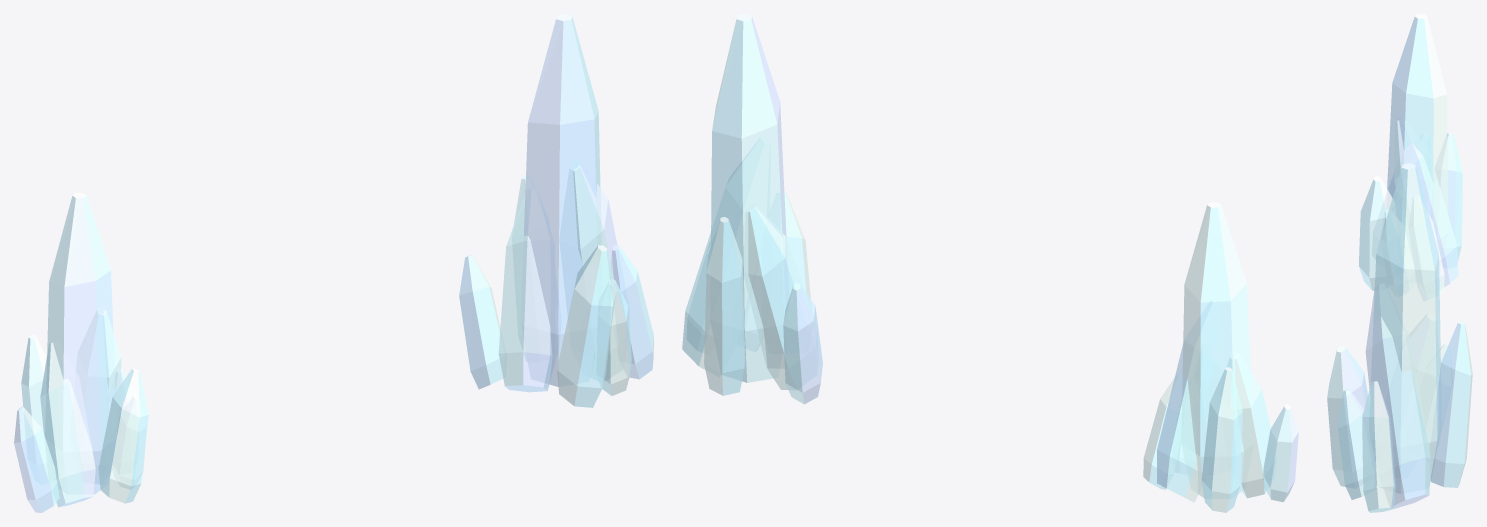
The model's file is crystal-mature-v03.glb.
3 renders of one model, left to right at view 1: azimuth 30°, elevation 25°; view 2: azimuth 150°, elevation 25°; view 3: azimuth 270°, elevation 25°, orthographic. The views are drawn at different scales.
Visible parts, largest first — view 1: Quartz_0 (×2), Quartz_1 (×2), Quartz_3 (×2), Quartz_2 (×2), Quartz_5 (×2), Quartz_4 (×2), Quartz_7 (×2), Quartz_6; view 2: Quartz_0 (×2), Quartz_2 (×2), Quartz_1 (×2), Quartz_7 (×2), Quartz_5 (×2), Quartz_6 (×2), Quartz_3; view 3: Quartz_0 (×2), Quartz_2 (×2), Quartz_7 (×2), Quartz_3 (×2), Quartz_6 (×2), Quartz_4 (×2), Quartz_1 (×2), Quartz_5.
Boxes of the visible parts, <box> form: Quartz_0 (×2): <box>45,14,601,494</box>; Quartz_1 (×2): <box>40,189,554,507</box>; Quartz_3 (×2): <box>98,245,616,503</box>; Quartz_2 (×2): <box>76,159,629,483</box>; Quartz_5 (×2): <box>14,254,505,512</box>; Quartz_4 (×2): <box>112,279,631,489</box>; Quartz_7 (×2): <box>21,176,560,484</box>; Quartz_6: <box>611,244,653,379</box>; Quartz_0 (×2): <box>711,14,1253,498</box>; Quartz_2 (×2): <box>682,137,1223,502</box>; Quartz_1 (×2): <box>743,204,1276,498</box>; Quartz_7 (×2): <box>704,217,1242,512</box>; Quartz_5 (×2): <box>783,283,1298,502</box>; Quartz_6 (×2): <box>687,241,1182,489</box>; Quartz_3: <box>770,192,811,352</box>; Quartz_0 (×2): <box>1369,14,1448,493</box>; Quartz_2 (×2): <box>1365,117,1458,508</box>; Quartz_7 (×2): <box>1430,132,1472,487</box>; Quartz_3 (×2): <box>1327,176,1395,488</box>; Quartz_6 (×2): <box>1362,195,1444,512</box>; Quartz_4 (×2): <box>1338,208,1414,499</box>; Quartz_1 (×2): <box>1372,133,1439,425</box>; Quartz_5: <box>1426,344,1452,447</box>.
Bounding box in the file's own units: 2.83 × 1.6 × 0.6395.
